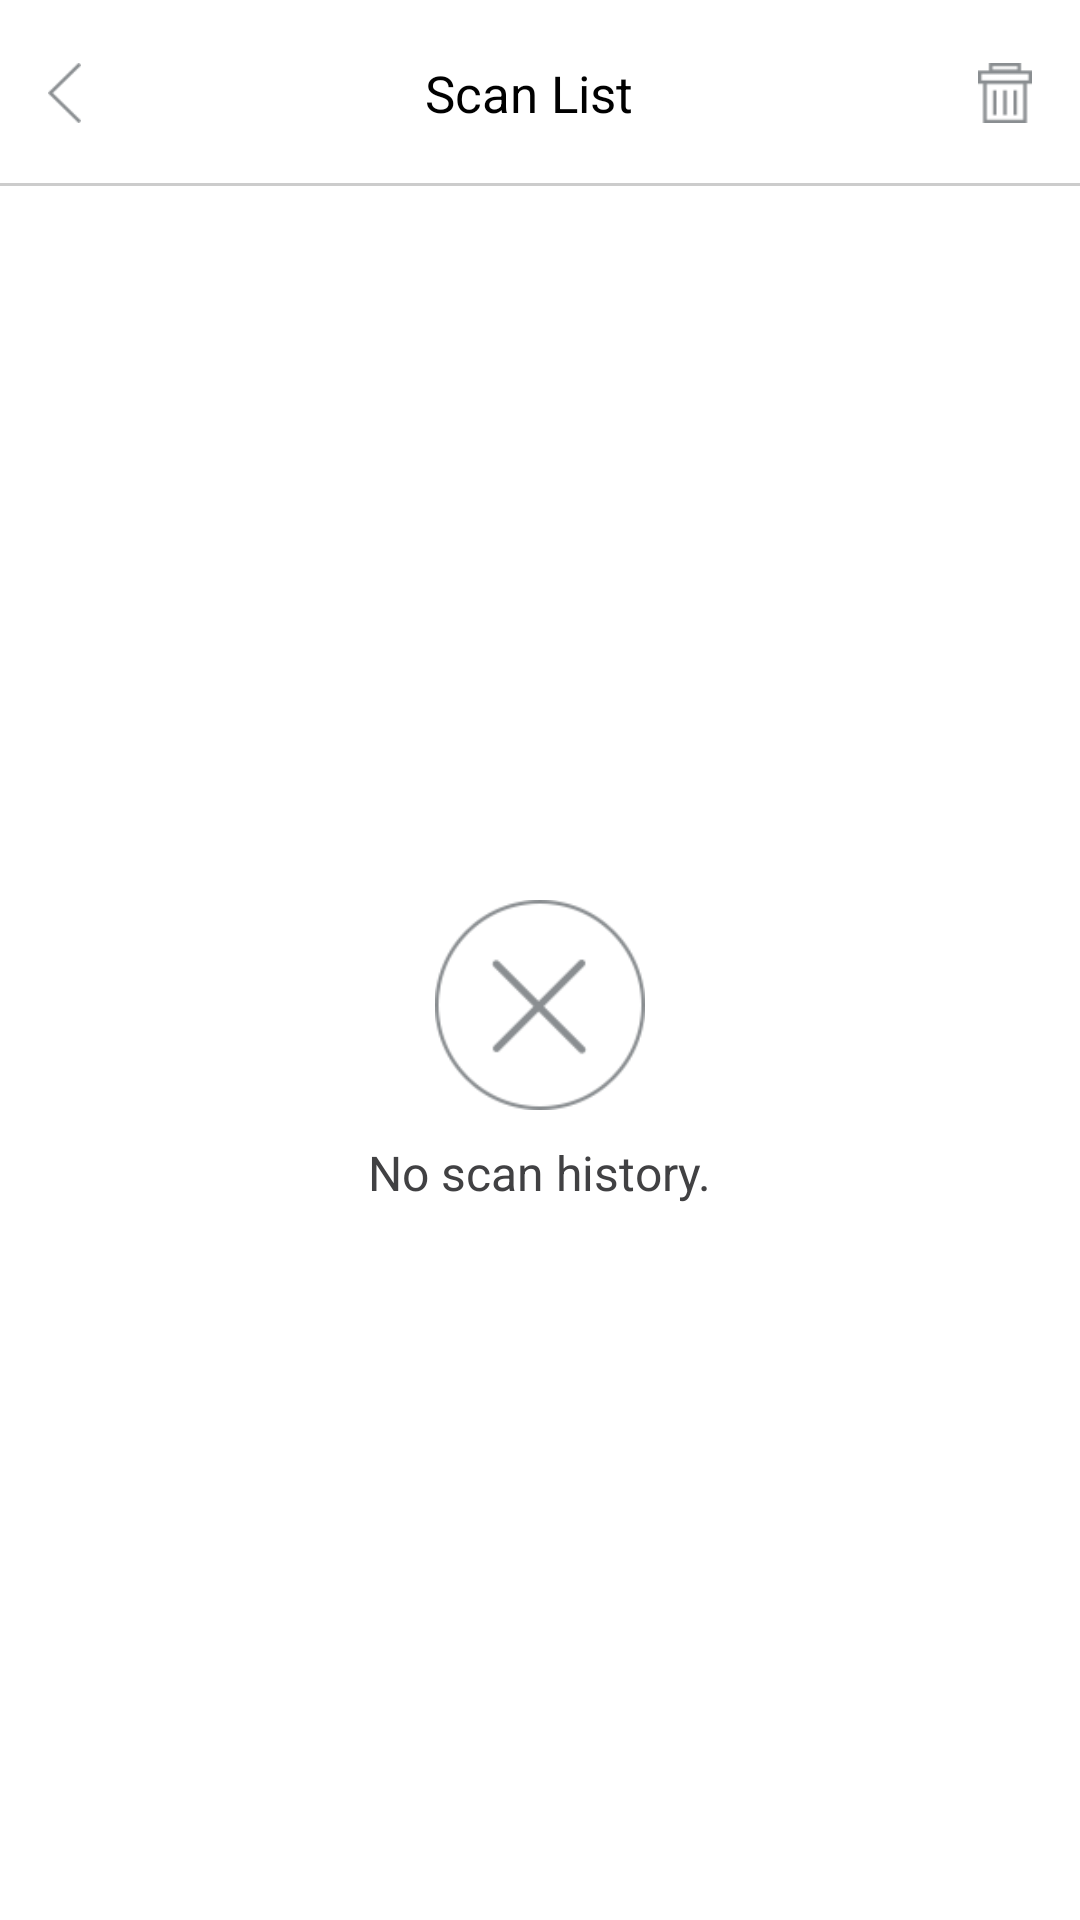

Icon click points for this 1080×1920 phone screenshot, format (x=x, y=y):
back: (x=64, y=93)
trash can: (x=1005, y=93)
